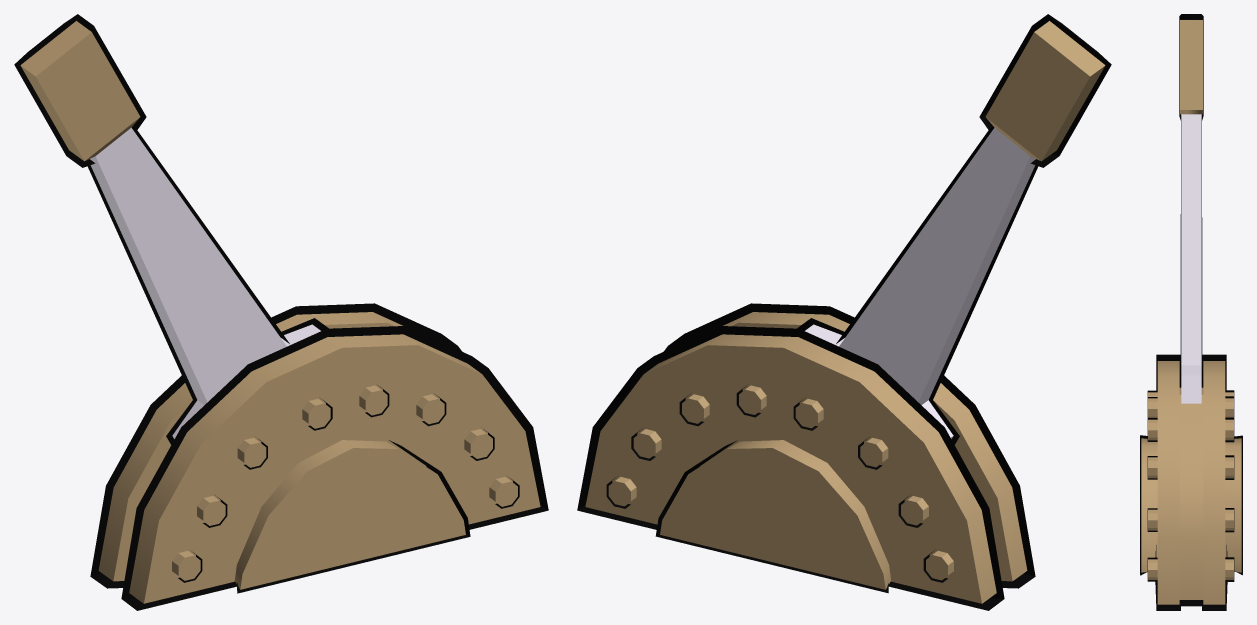
File: Palanca.fbx
The picture shows the model from 3 angles, left to right: view 1: azimuth 30°, elevation 25°; view 2: azimuth 150°, elevation 25°; view 3: azimuth 270°, elevation 25°; orthographic projection. The views are drawn at different scales.
Visible parts, largest first — view 1: base_palanca, Palanca; view 2: base_palanca, Palanca; view 3: base_palanca, Palanca.
Boxes of the visible parts, left/top/right/bottom form: base_palanca: left=90, top=303, right=548, bottom=610; Palanca: left=14, top=14, right=328, bottom=444; base_palanca: left=577, top=303, right=1035, bottom=610; Palanca: left=797, top=14, right=1111, bottom=444; base_palanca: left=1140, top=354, right=1242, bottom=610; Palanca: left=1179, top=14, right=1203, bottom=403.
Bounding box in the file's own units: 133 × 148 × 31.43.
